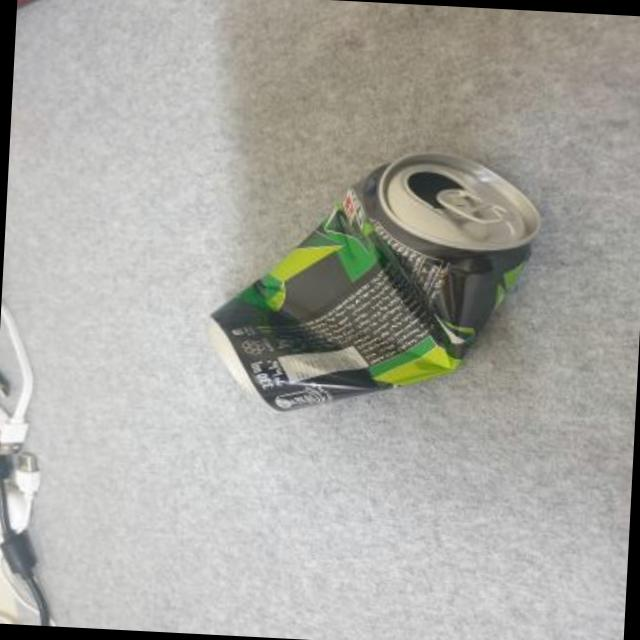metal: (207, 153, 536, 408)
